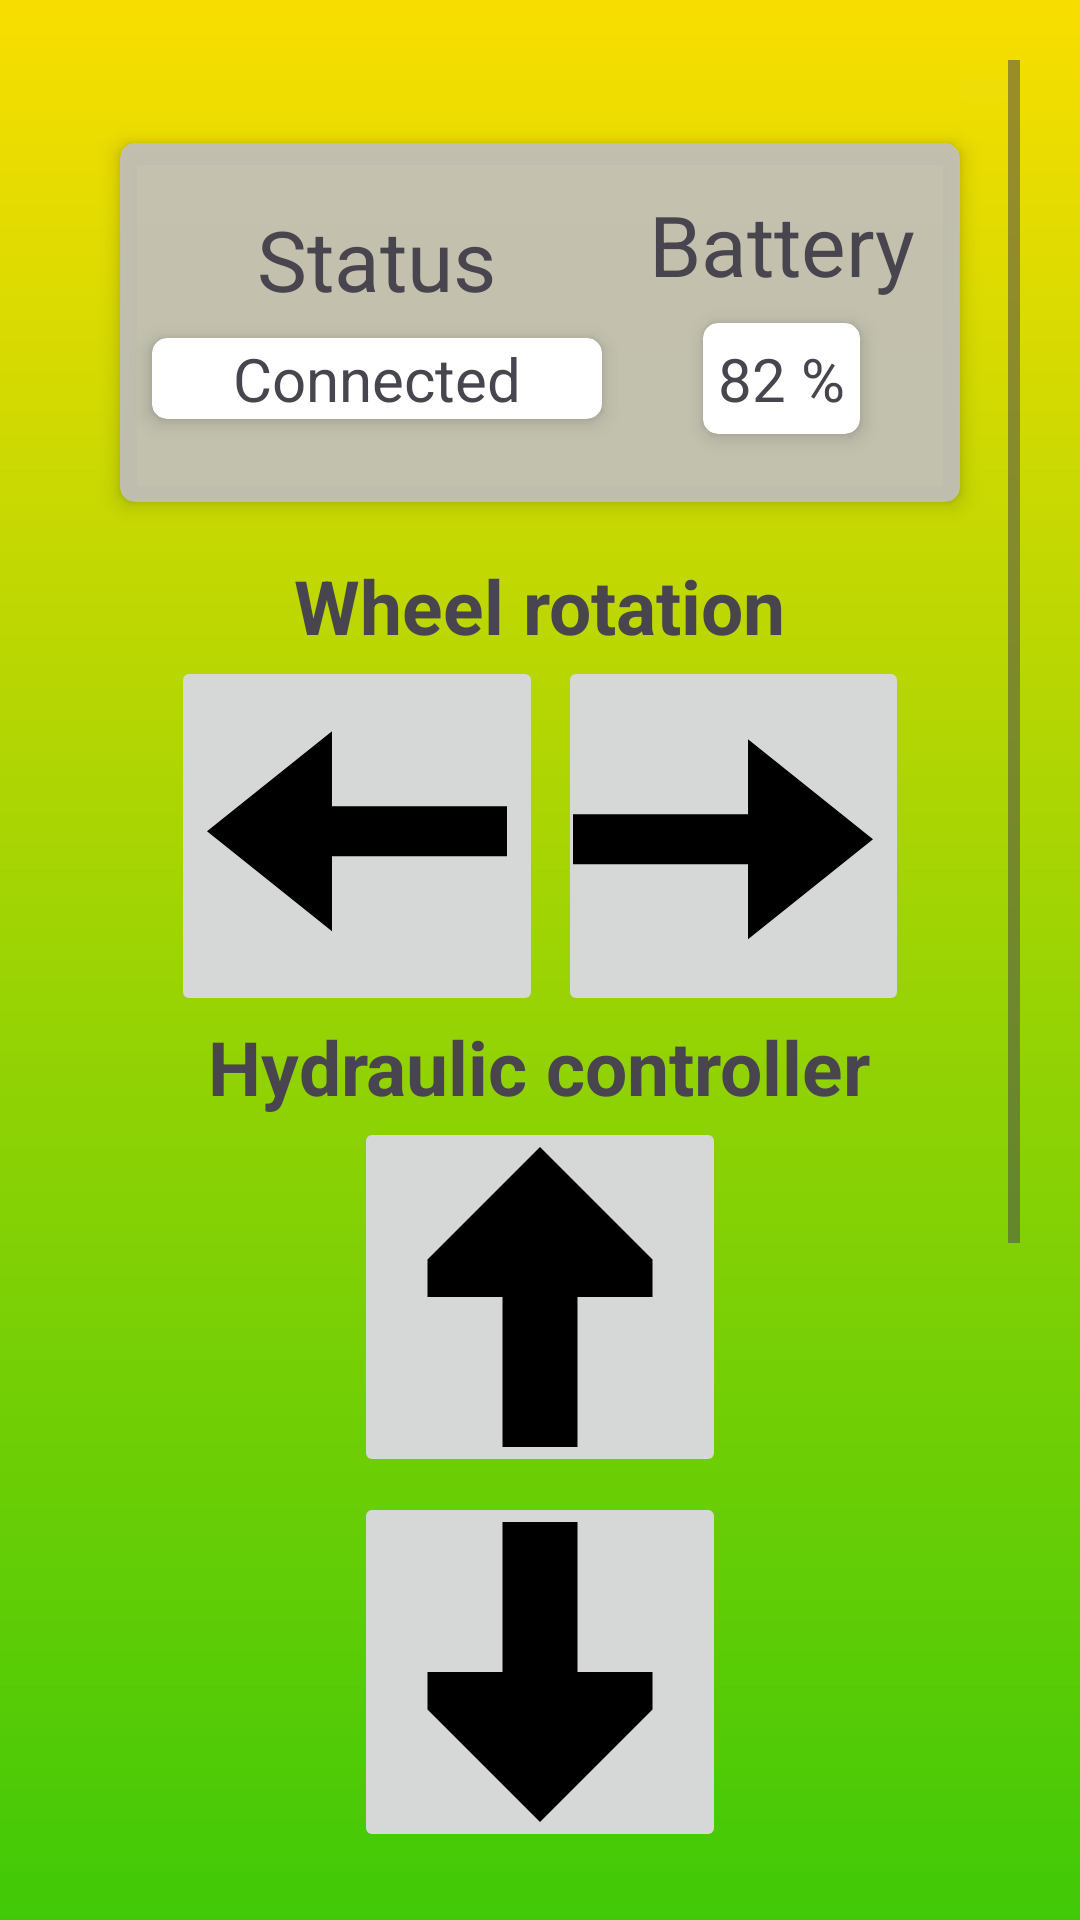

Named icons in this screenshot (1080 x 1920) and their centers, (x,y):
right arrow: (733,836)
